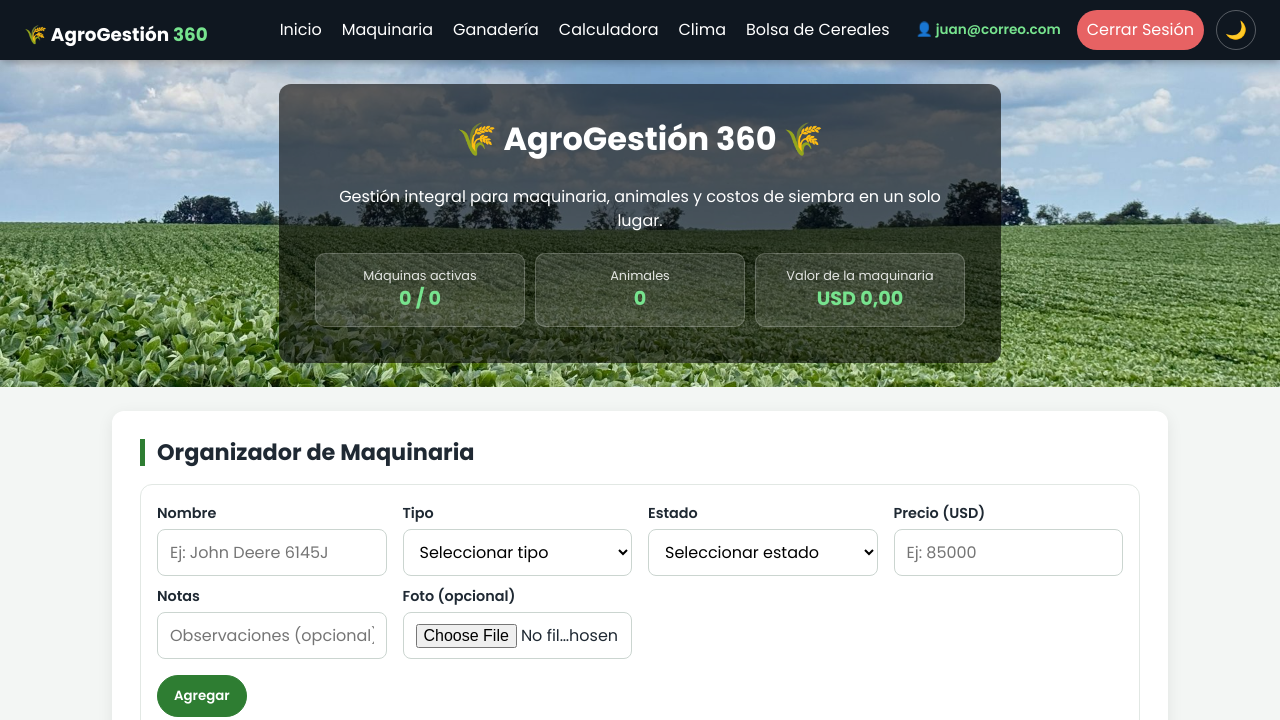
Test case: Modo oscuro › el botón cambia el tema y lo guarda en localStorage
The image size is (1280, 720).
Click the button named "Activar modo oscuro": point(1236, 30) x1=1216 y1=10 x2=1256 y2=50
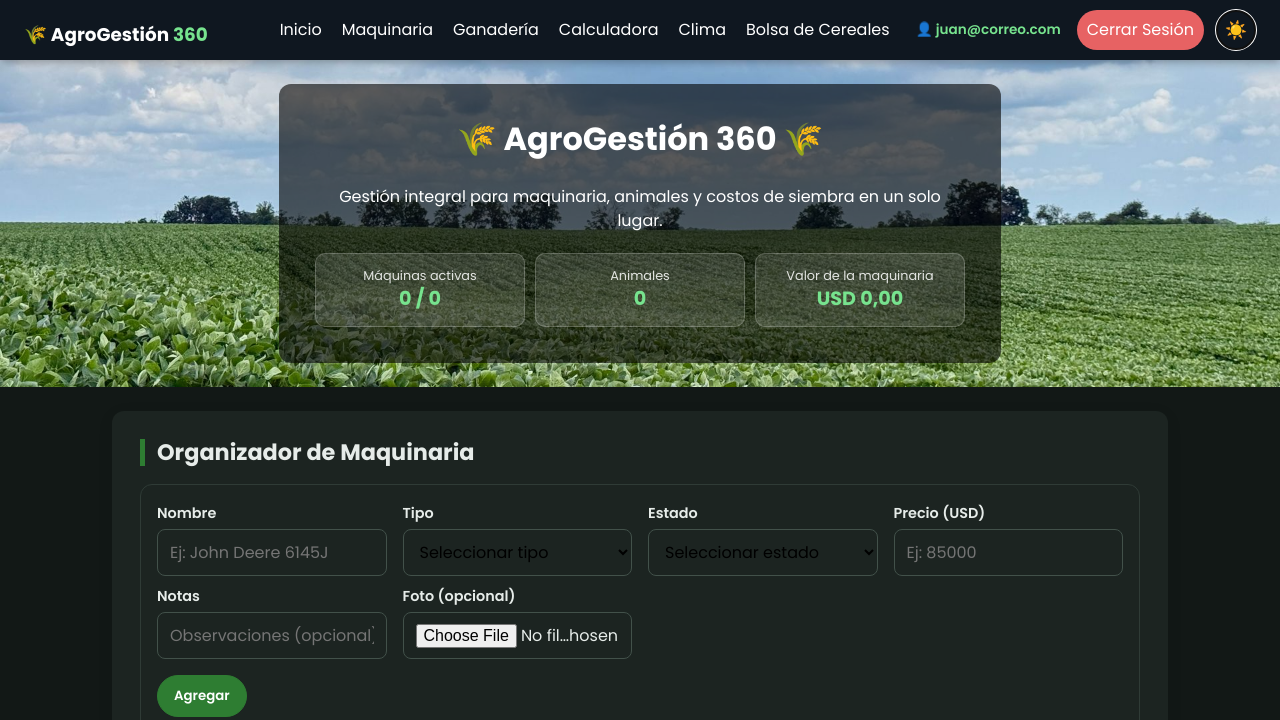
Now the button named "Activar modo claro" is shown, box x1=1216 y1=10 x2=1256 y2=50
